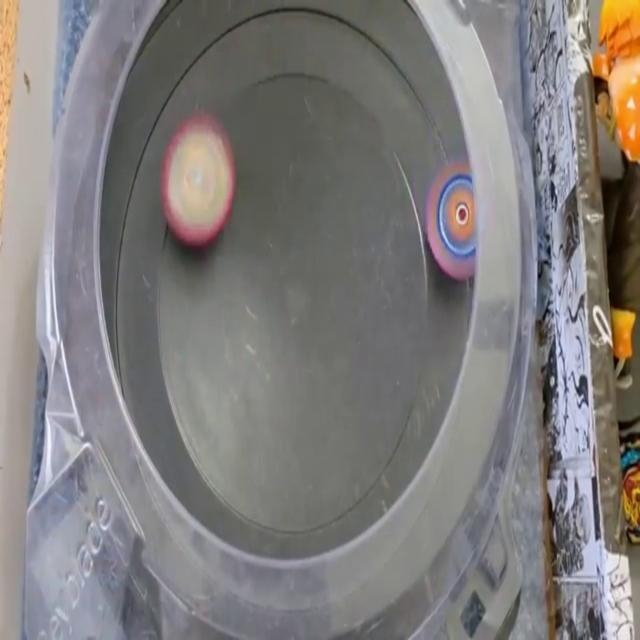Beyblade: (160, 114, 236, 251), (428, 162, 490, 279)
